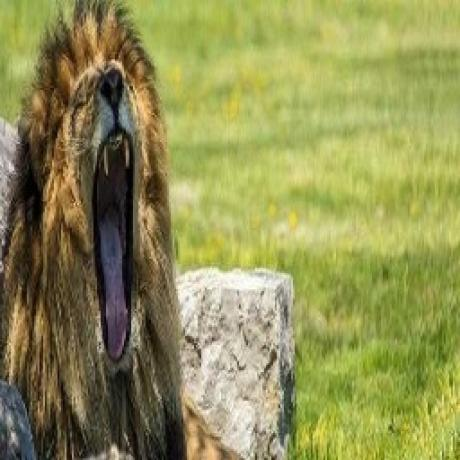Lion: (0, 0, 189, 460)
